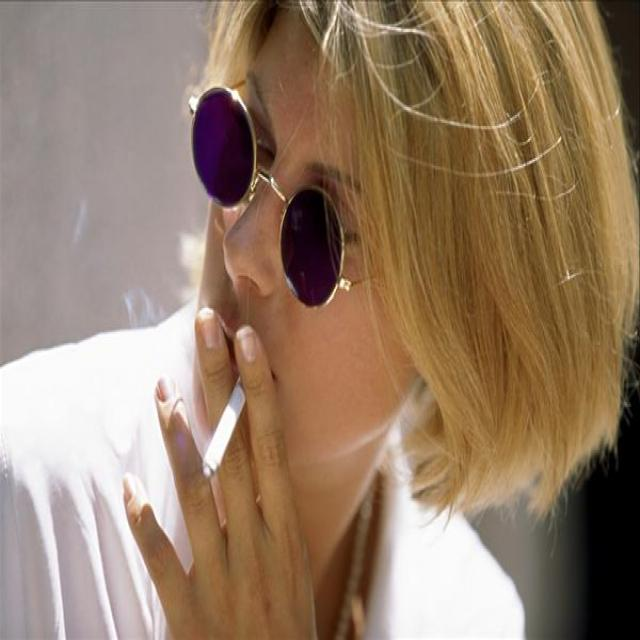smoking: (203, 355, 255, 482)
